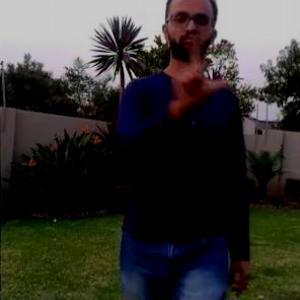land_hand: (168, 32, 231, 106)
